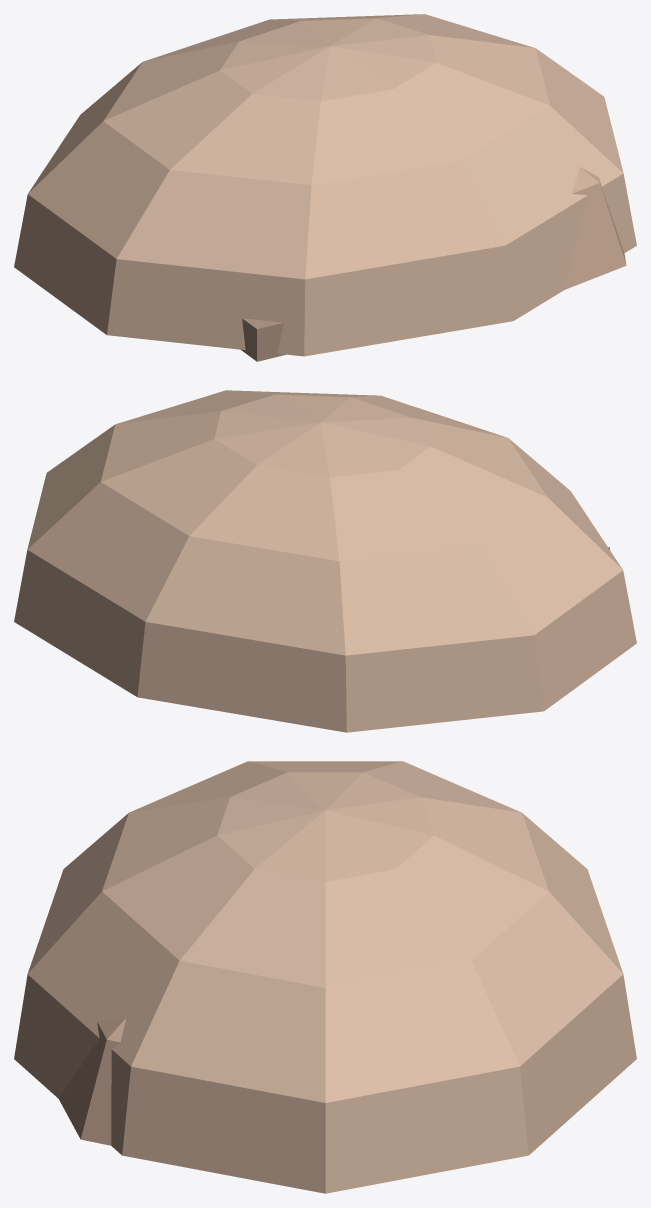
File: clay_bank.glb
The picture shows the model from 3 angles, top to bottom: view 1: azimuth 30°, elevation 25°; view 2: azimuth 150°, elevation 25°; view 3: azimuth 270°, elevation 25°; orthographic projection. The views are drawn at different scales.
Size of the model in its own units: 0.8923 by 0.295 by 0.7429.
